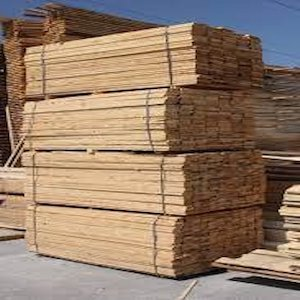combustible: (9, 18, 292, 258)
